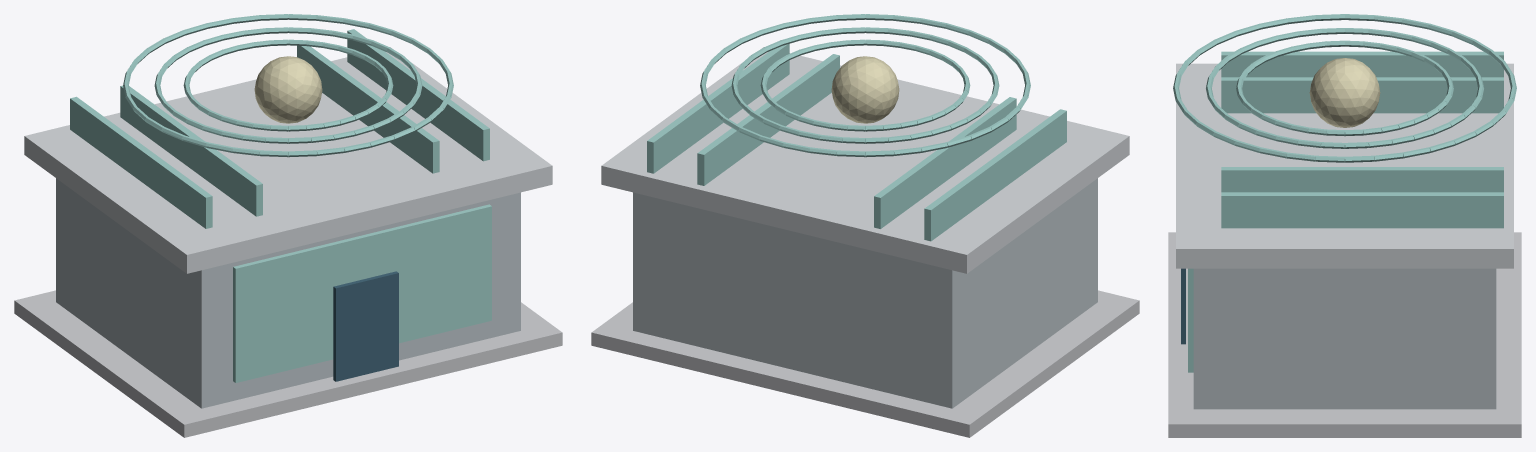
Rendered from orbital-lab.glb.
3 views of the same model, side by side, from view 1: azimuth 30°, elevation 25°; view 2: azimuth 150°, elevation 25°; view 3: azimuth 270°, elevation 25° (orthographic). The views are drawn at different scales.
Parts seen in each view (by area): view 1: Roof_5, Facade_2, Glass_3, Foundation_1, Door_4, RoofFins_6, RoofFins_7, RoofFins_9, RoofFins_8, Core_118; view 2: Facade_2, Roof_5, Foundation_1, RoofFins_6, RoofFins_7, RoofFins_9, RoofFins_8, Core_118; view 3: Facade_2, Roof_5, Foundation_1, RoofFins_9, RoofFins_8, RoofFins_7, RoofFins_6, Core_118, Glass_3, Door_4.
Part boxes in pixels (x1,y1,x2,y2): Roof_5: [24, 47, 552, 273]; Facade_2: [56, 178, 520, 408]; Glass_3: [233, 204, 491, 382]; Foundation_1: [14, 290, 562, 437]; Door_4: [333, 271, 398, 381]; RoofFins_6: [70, 96, 212, 228]; RoofFins_7: [120, 85, 262, 216]; RoofFins_9: [347, 29, 489, 161]; RoofFins_8: [297, 45, 439, 173]; Core_118: [254, 56, 322, 123]; Facade_2: [633, 178, 1097, 408]; Roof_5: [601, 47, 1129, 273]; Foundation_1: [591, 290, 1139, 437]; RoofFins_6: [924, 109, 1066, 241]; RoofFins_7: [874, 97, 1016, 228]; RoofFins_9: [647, 44, 789, 173]; RoofFins_8: [697, 54, 839, 185]; Core_118: [831, 56, 899, 123]; Facade_2: [1193, 268, 1496, 409]; Roof_5: [1176, 63, 1513, 268]; Foundation_1: [1168, 232, 1521, 437]; RoofFins_9: [1221, 192, 1503, 228]; RoofFins_8: [1221, 167, 1503, 192]; RoofFins_7: [1221, 77, 1503, 113]; RoofFins_6: [1221, 51, 1503, 77]; Core_118: [1309, 58, 1380, 127]; Glass_3: [1188, 268, 1193, 372]; Door_4: [1181, 268, 1185, 344].
Size of the model in its own units: 9 by 6.15 by 7.
